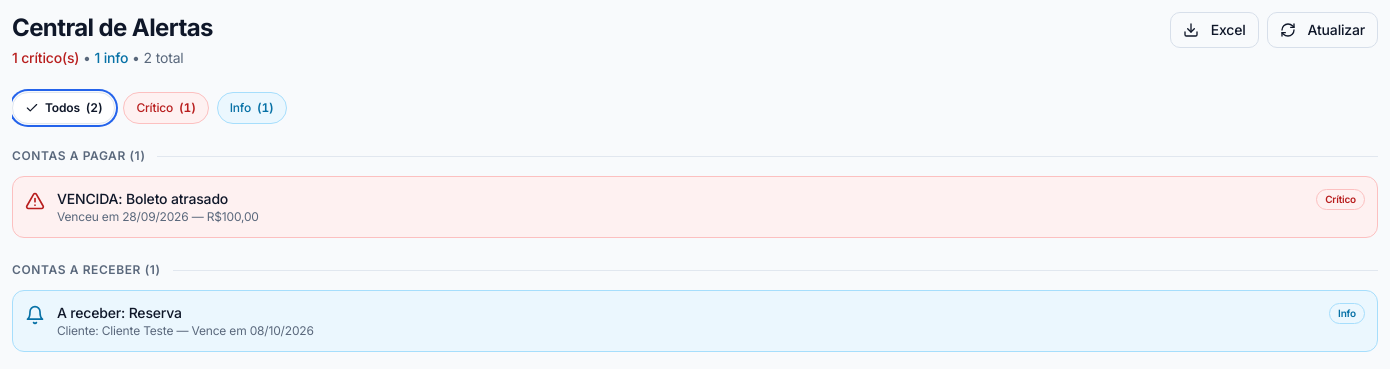
Test: Central de Alertas (V2) › filtro por severidade em chips com aria-pressed e rótulo no vazio do filtro
Click the button "Crítico (1)": [166, 108] box x1=123 y1=92 x2=209 y2=124
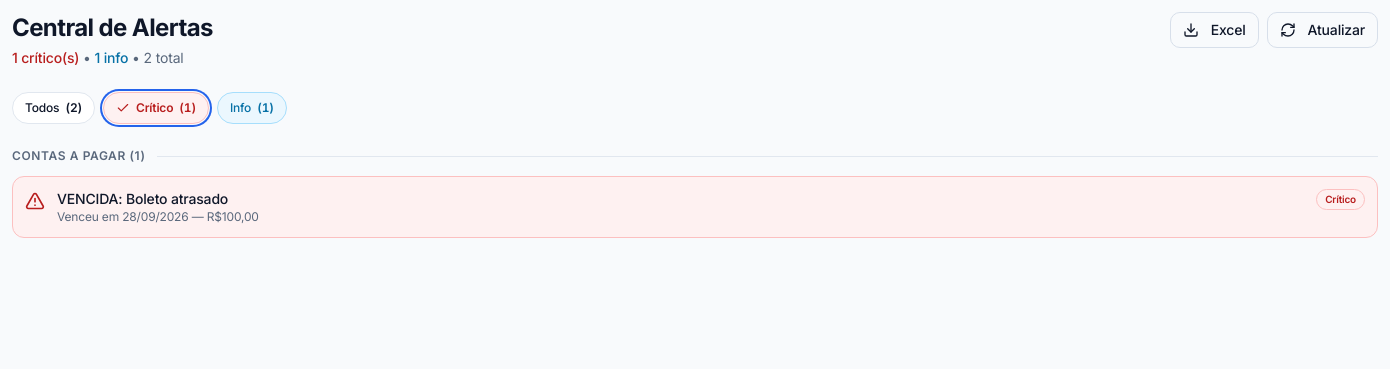
Expected: the text "VENCIDA: Boleto atrasado" is shown, x1=57 y1=190 x2=228 y2=207
Result: the text "A receber: Reserva" is gone
